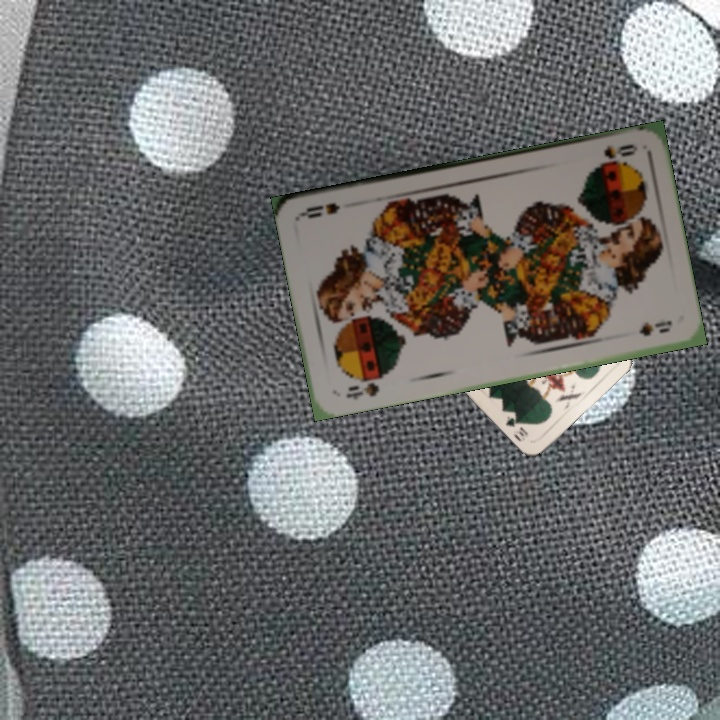SO: (342, 372, 386, 403), (596, 140, 641, 167)
